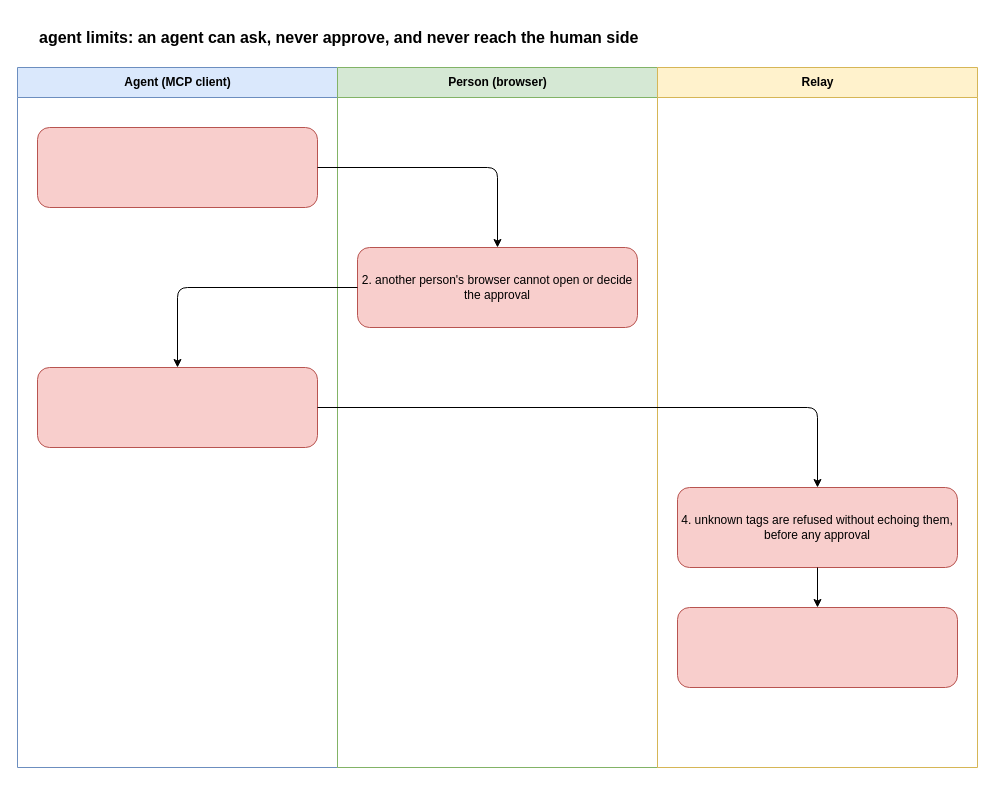
Some shapes in this 995 by 785 pixel diagram are drawn without their labels. Each missing label, with the centre of its shape:
"1. an agent that accepts the dialog without its human shares nothing" goes at point 177,167.
"3. an agent token cannot reach the human's web UI" goes at point 177,407.
"5. a Host header from another site is refused" goes at point 817,647.
